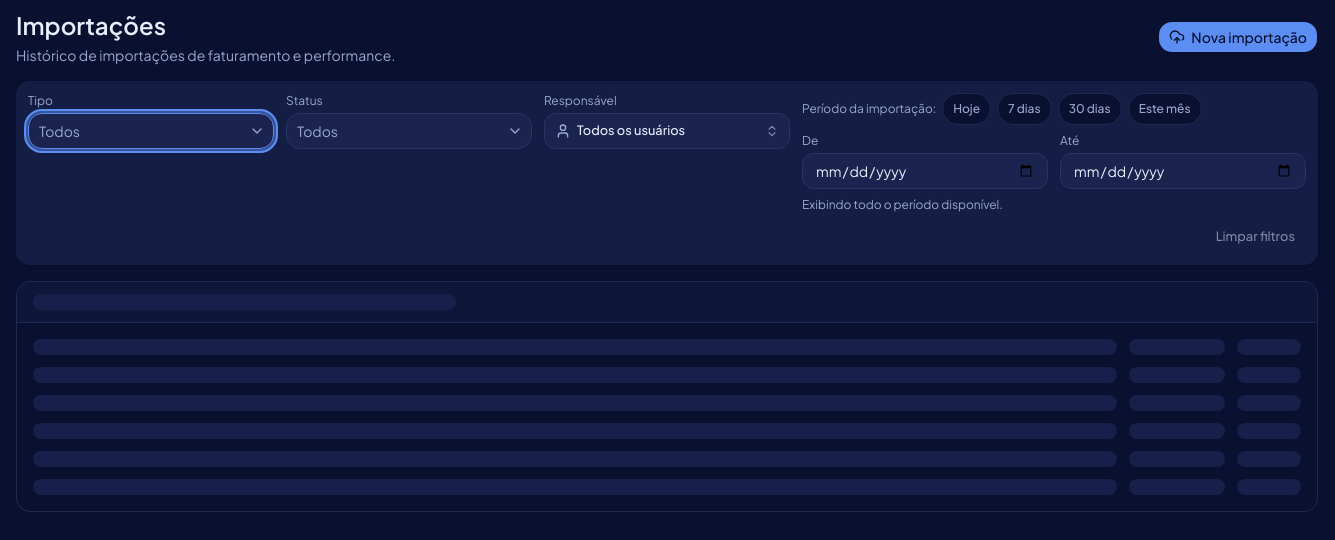
Test case: ImportacoesPage › filtro de tipo dispara nova busca com o filtro aplicado
Click the dropdown named "Tipo": (151,131) [28,113,274,149]
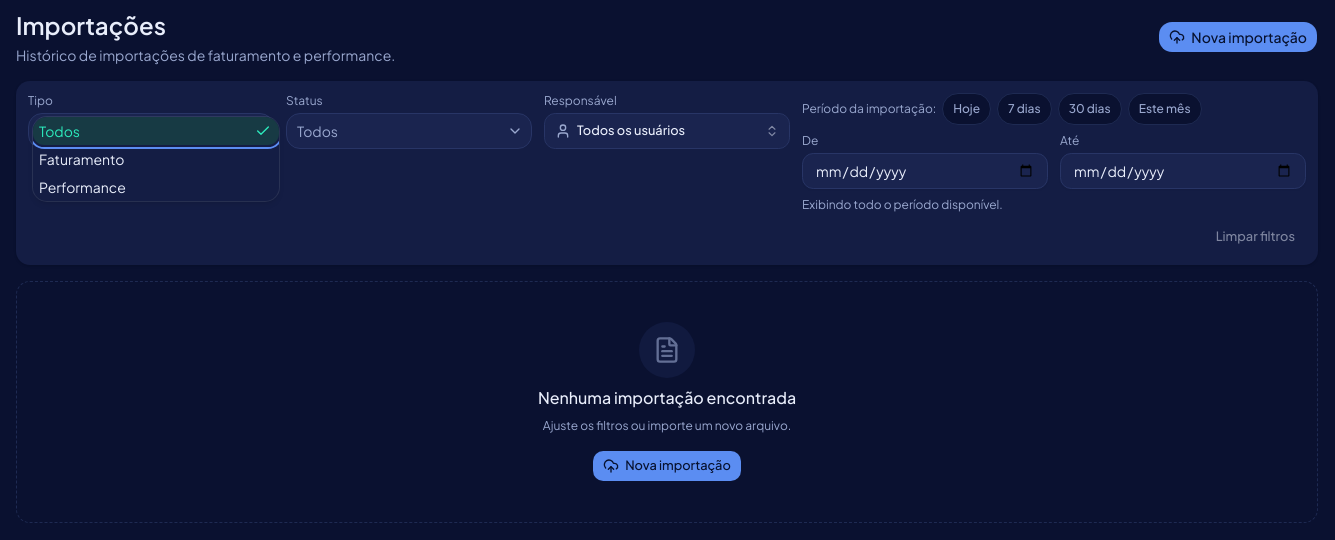
expect the dropdown named "Tipo" is expanded: met, box [28,113,274,149]
expect the option "Todos" is shown: met
Press ArrowDown in the option "Todos", box [33,117,279,145]
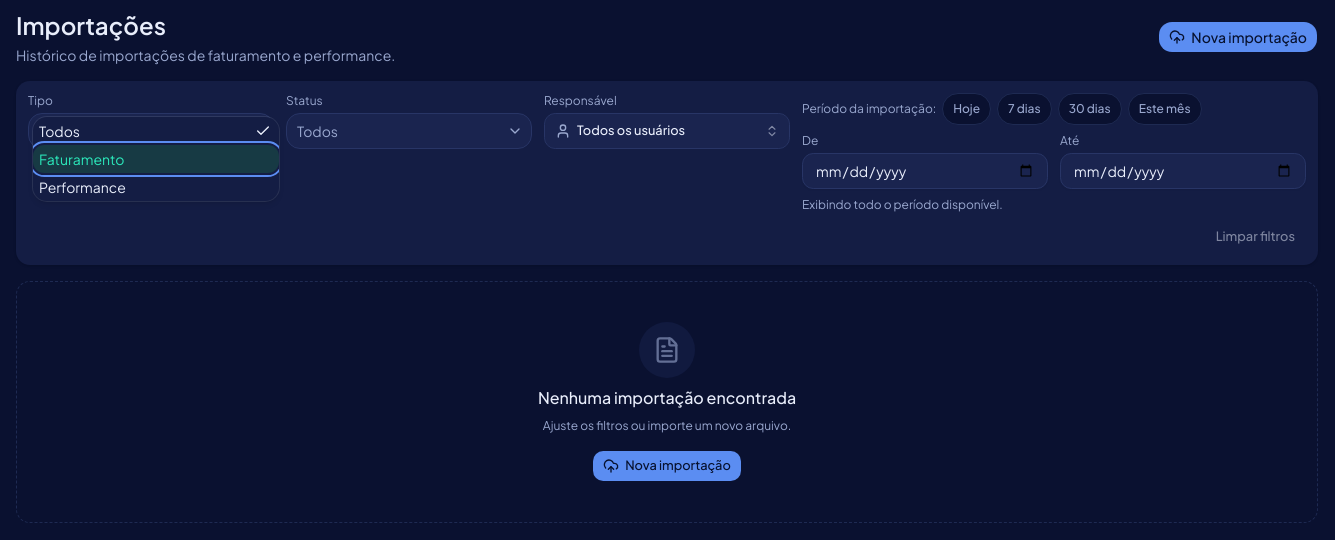
Press Enter in the option "Faturamento", box [33,145,279,173]
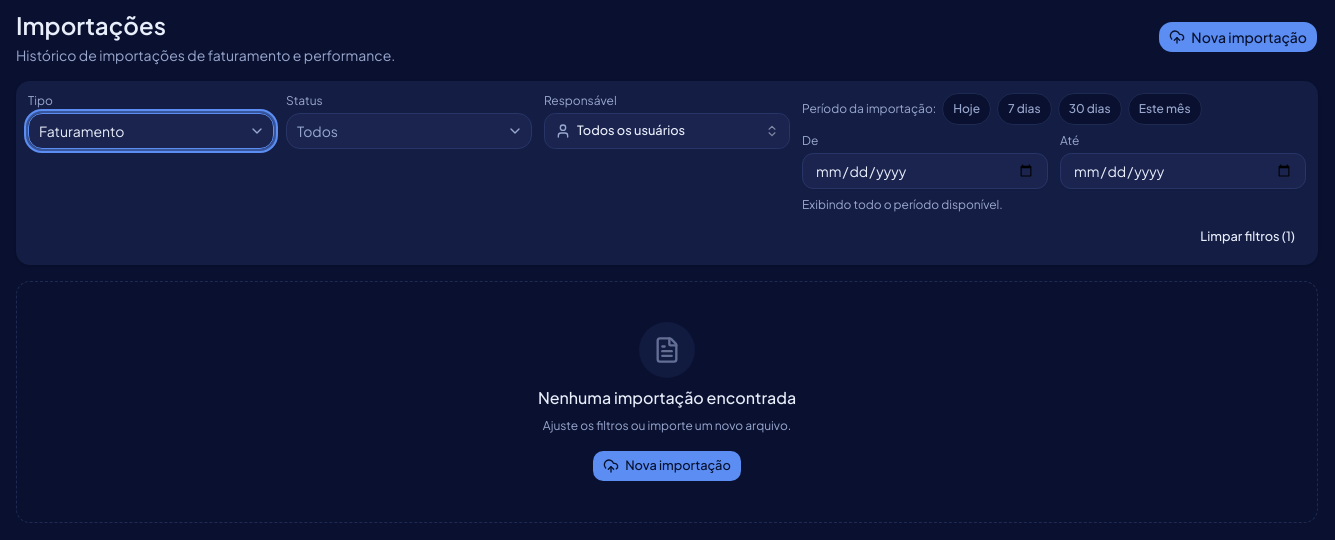
expect the dropdown named "Tipo" is collapsed: met, box [28,113,274,149]
